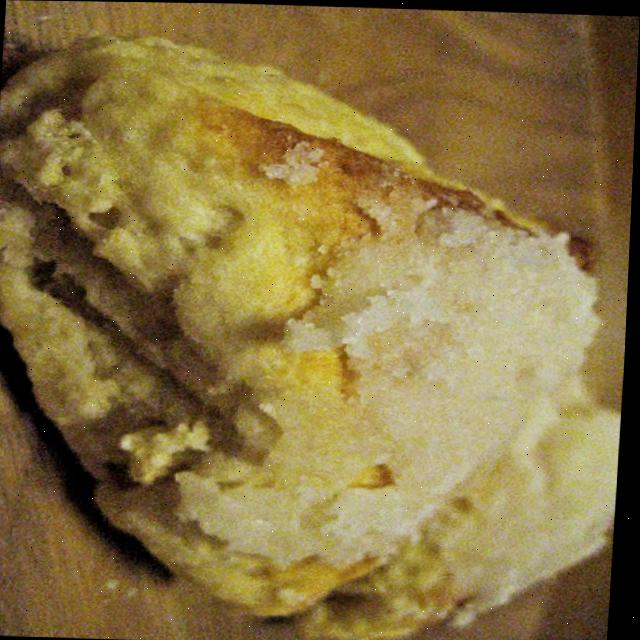面包点心: (6, 32, 619, 615)
